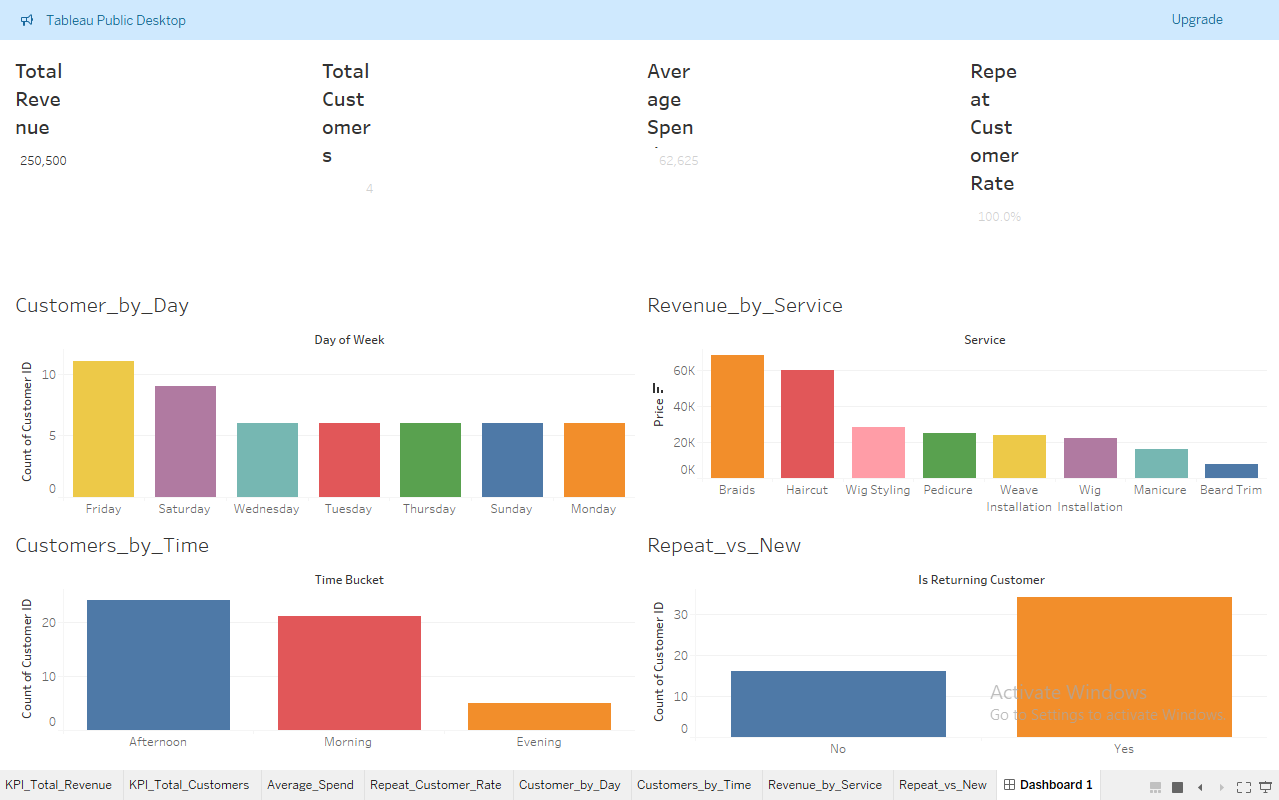

The page's visual inventory and layout, read from the dashboard file:
{"tool":"tableau","page":{"name":"Dashboard 1","canvas":[1000,1000],"units":"permille","ordinal":0},"visuals":[{"type":"worksheet","title":"KPI_Total_Revenue","mark":"Automatic","box":[7.5,13.7,239.2,318.5]},{"type":"worksheet","title":"KPI_Total_Customers","mark":"Automatic","box":[246.7,13.7,253.3,318.5]},{"type":"worksheet","title":"Average_Spend","mark":"Automatic","box":[499.9,13.7,251.7,318.5]},{"type":"worksheet","title":"Repeat_Customer_Rate","mark":"Automatic","box":[751.6,13.7,240.9,318.5]},{"type":"worksheet","title":"Customer_by_Day","mark":"Automatic","rows":["Customer_ID"],"cols":["Day_of_Week"],"box":[7.5,332.2,492.5,327.6]},{"type":"worksheet","title":"Revenue_by_Service","mark":"Automatic","rows":["Price"],"cols":["Service"],"box":[499.9,332.2,492.6,327.6]},{"type":"worksheet","title":"Customers_by_Time","mark":"Automatic","rows":["Customer_ID"],"cols":["Time_Bucket"],"box":[7.5,659.7,492.5,326.6]},{"type":"worksheet","title":"Repeat_vs_New","mark":"Automatic","rows":["Customer_ID"],"cols":["Is_Returning_Customer"],"box":[499.9,659.8,492.6,326.5]}]}

Visuals, with their boxes on the dashboard's canvas, which has no fixed pixel size, in thousandths of its width and height (x1, y1, x2, y2). These are canvas units, not pixel positions in the 1279x800 screenshot, which may show the page scaled, cropped or inside an application window:
"KPI_Total_Revenue" worksheet: Rect(8, 14, 247, 332)
"KPI_Total_Customers" worksheet: Rect(247, 14, 500, 332)
"Average_Spend" worksheet: Rect(500, 14, 752, 332)
"Repeat_Customer_Rate" worksheet: Rect(752, 14, 992, 332)
"Customer_by_Day" worksheet: Rect(8, 332, 500, 660)
"Revenue_by_Service" worksheet: Rect(500, 332, 992, 660)
"Customers_by_Time" worksheet: Rect(8, 660, 500, 986)
"Repeat_vs_New" worksheet: Rect(500, 660, 992, 986)
